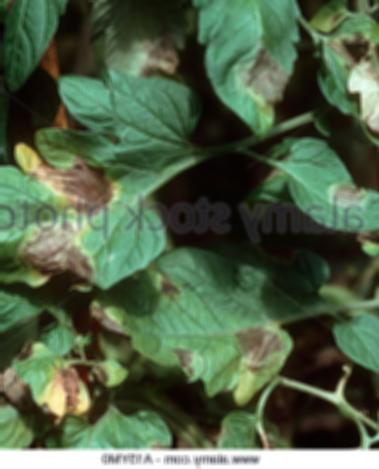Tomato leaf late blight: (0, 72, 206, 298), (86, 243, 332, 398), (2, 323, 126, 427), (274, 136, 379, 247), (304, 13, 379, 143)
